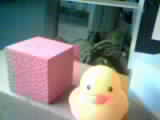duck: (58, 61, 132, 114)
